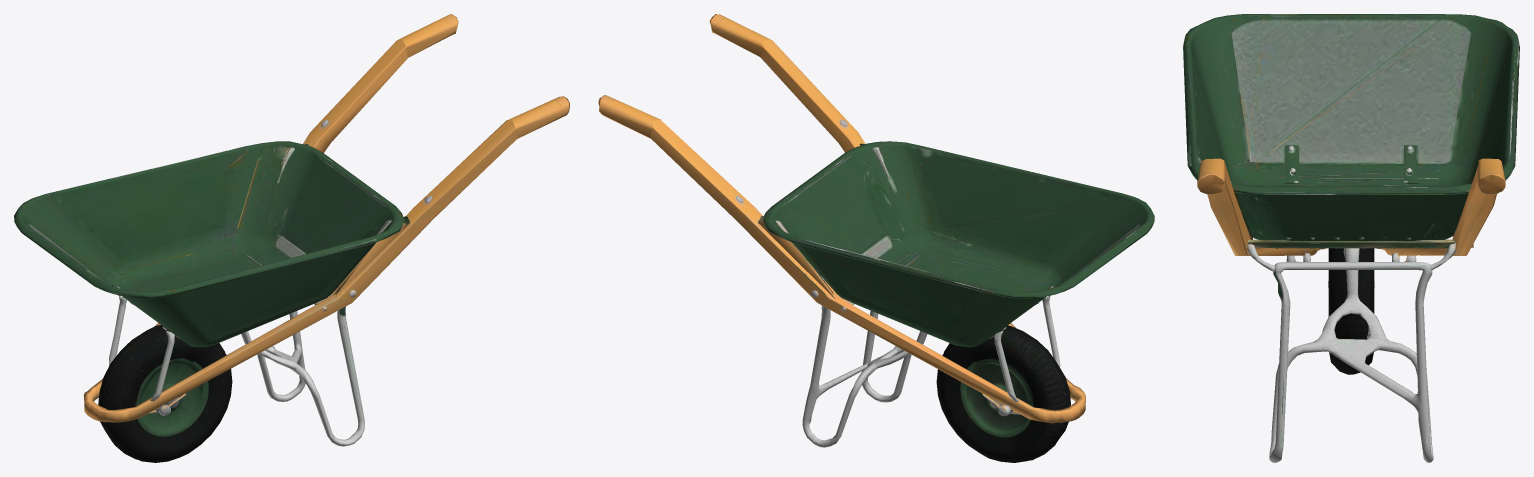
File: wheelbarrow.glb
3 views of the same model, side by side, from view 1: azimuth 30°, elevation 25°; view 2: azimuth 150°, elevation 25°; view 3: azimuth 270°, elevation 25° (orthographic). The views are drawn at different scales.
Bounding box in the file's own units: 0.9609 × 0.6513 × 0.4917.
Materials: 1 (1 with a texture image).
